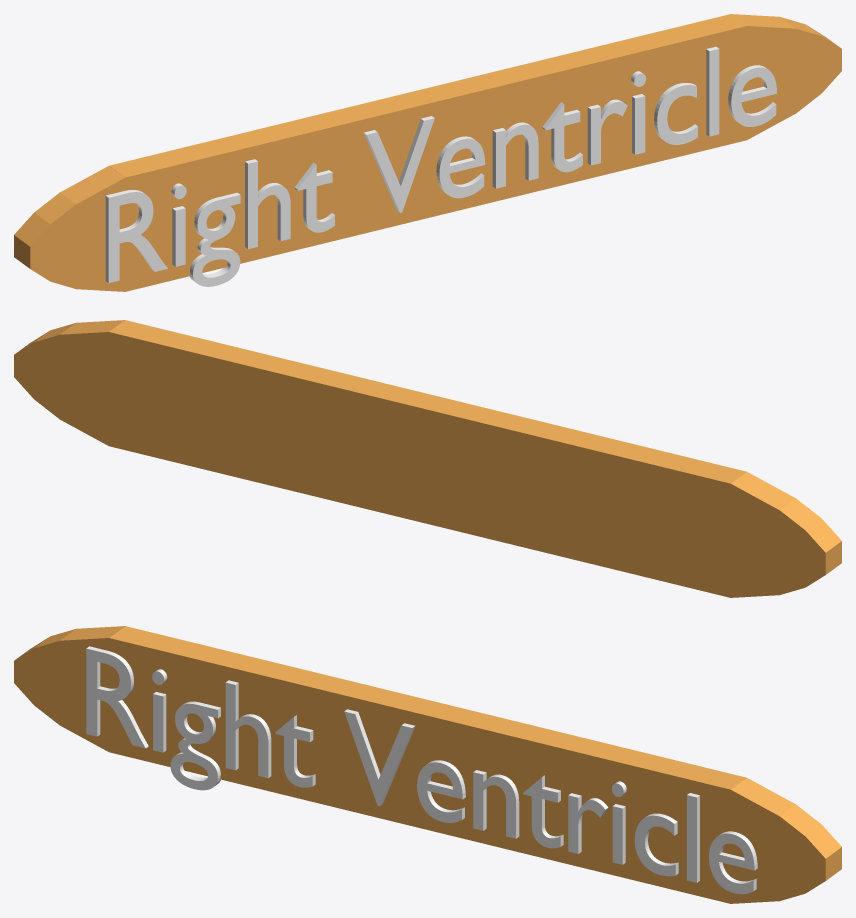
Rendered from txtRightVent.fbx.
The picture shows the model from 3 angles, top to bottom: view 1: azimuth 30°, elevation 25°; view 2: azimuth 150°, elevation 25°; view 3: azimuth 330°, elevation 25°; orthographic projection.
Visible parts, largest first — view 1: TagContainer.038, Text.039; view 2: TagContainer.038; view 3: TagContainer.038, Text.039.
Part boxes in pixels (bbox=[...]): TagContainer.038: bbox=[14, 14, 841, 291]; Text.039: bbox=[105, 46, 776, 286]; TagContainer.038: bbox=[14, 320, 841, 597]; TagContainer.038: bbox=[14, 626, 841, 903]; Text.039: bbox=[86, 646, 757, 894].
Bounding box in the file's own units: 307 × 46.03 × 12.69.
